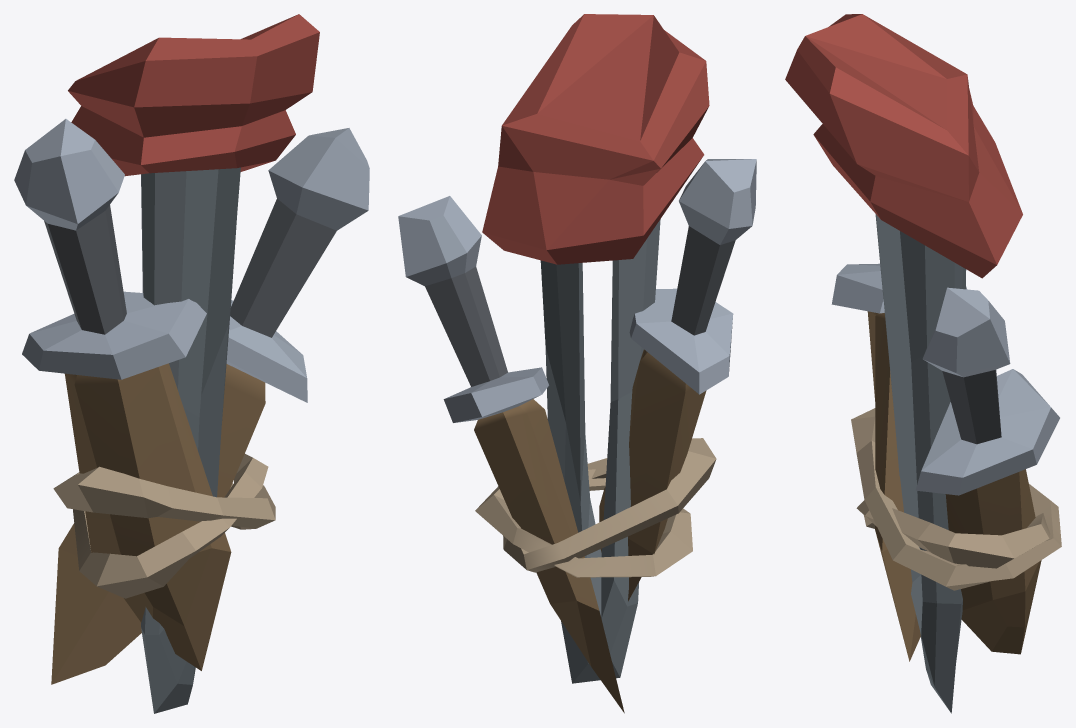
The model's file is SM_Chr_Attach_Peg_Leg_01.fbx.
The picture shows the model from 3 angles, left to right: view 1: azimuth 30°, elevation 25°; view 2: azimuth 150°, elevation 25°; view 3: azimuth 270°, elevation 25°; orthographic projection. The views are drawn at different scales.
Parts seen in each view (by area): view 1: SM_Chr_Attach_Peg_Leg_01; view 2: SM_Chr_Attach_Peg_Leg_01; view 3: SM_Chr_Attach_Peg_Leg_01.
Boxes of the visible parts, box(x1,y1,x2,y2) form: SM_Chr_Attach_Peg_Leg_01: box(14, 14, 369, 713); SM_Chr_Attach_Peg_Leg_01: box(398, 14, 756, 713); SM_Chr_Attach_Peg_Leg_01: box(785, 14, 1061, 713).
Size of the model in its own units: 25.48 by 47.99 by 17.95.
